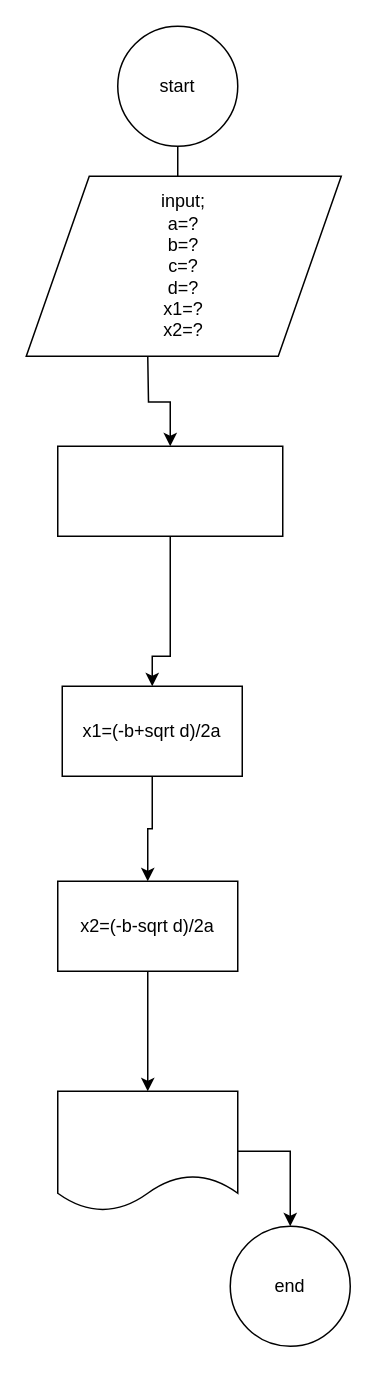
Image size: 377x1373. Some labels were removed from this diagram. The box of each missing label's shape, as (x1, y1, x2, y2) in pixels:
d=b*b-4ac: (56, 445, 283, 536)
print x1,x2: (56, 1090, 238, 1211)
